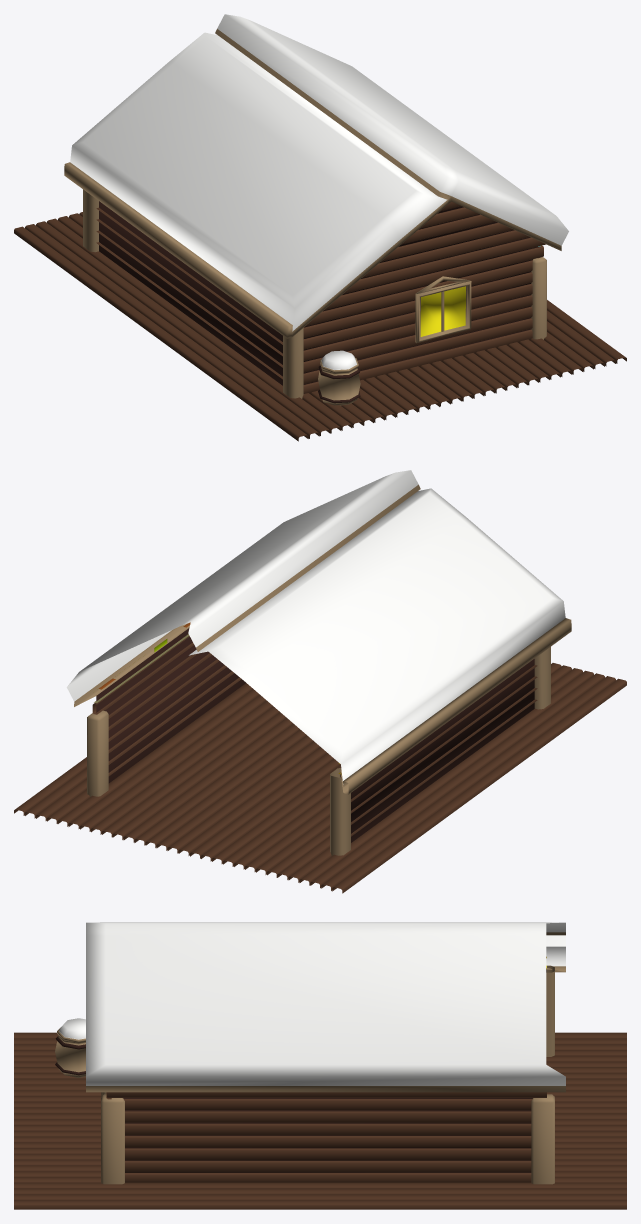
File: Casa01.fbx
3 views of the same model, one above another, from view 1: azimuth 30°, elevation 25°; view 2: azimuth 150°, elevation 25°; view 3: azimuth 270°, elevation 25° (orthographic). The views are drawn at different scales.
Visible parts, largest first — view 1: Casa01; view 2: Casa01; view 3: Casa01.
Part boxes in pixels (x1=…): Casa01: x1=14, y1=14, x2=626, y2=441; Casa01: x1=14, y1=470, x2=626, y2=893; Casa01: x1=14, y1=922, x2=626, y2=1209.
Size of the model in its own units: 732 by 422 by 1101.
